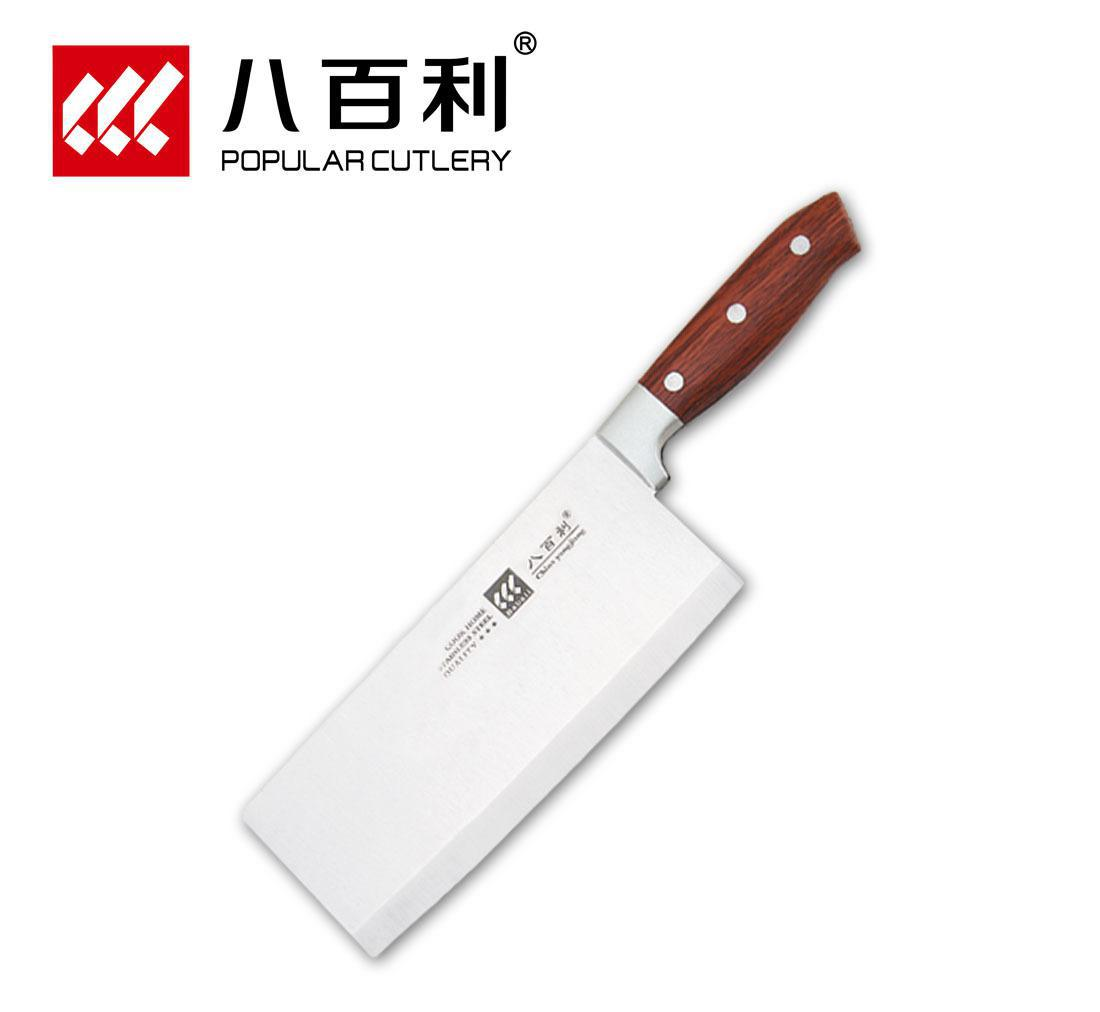knief: (298, 196, 879, 966)
